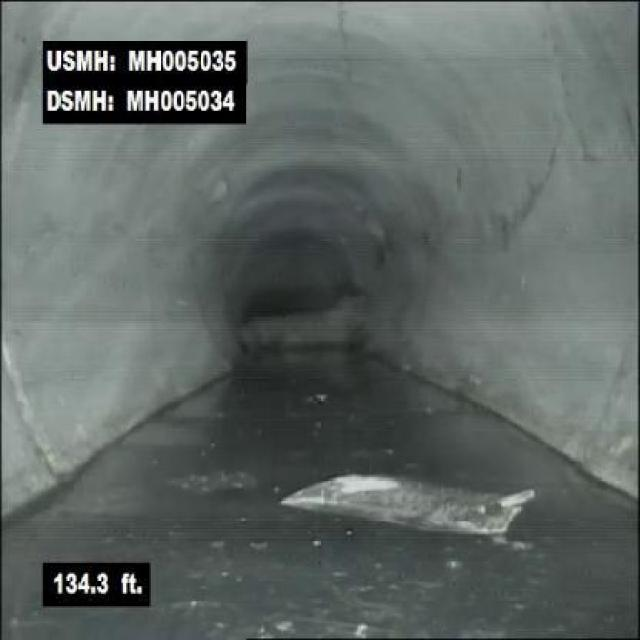Crack: (515, 136, 563, 238), (332, 5, 358, 77)
